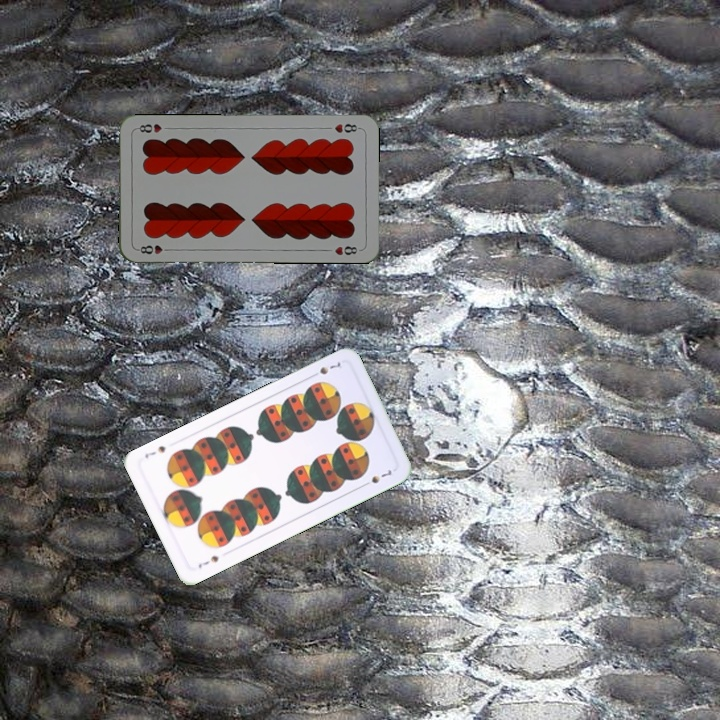H8: (133, 241, 174, 257), (331, 120, 363, 135)
S7: (307, 358, 343, 380), (194, 552, 221, 571)
